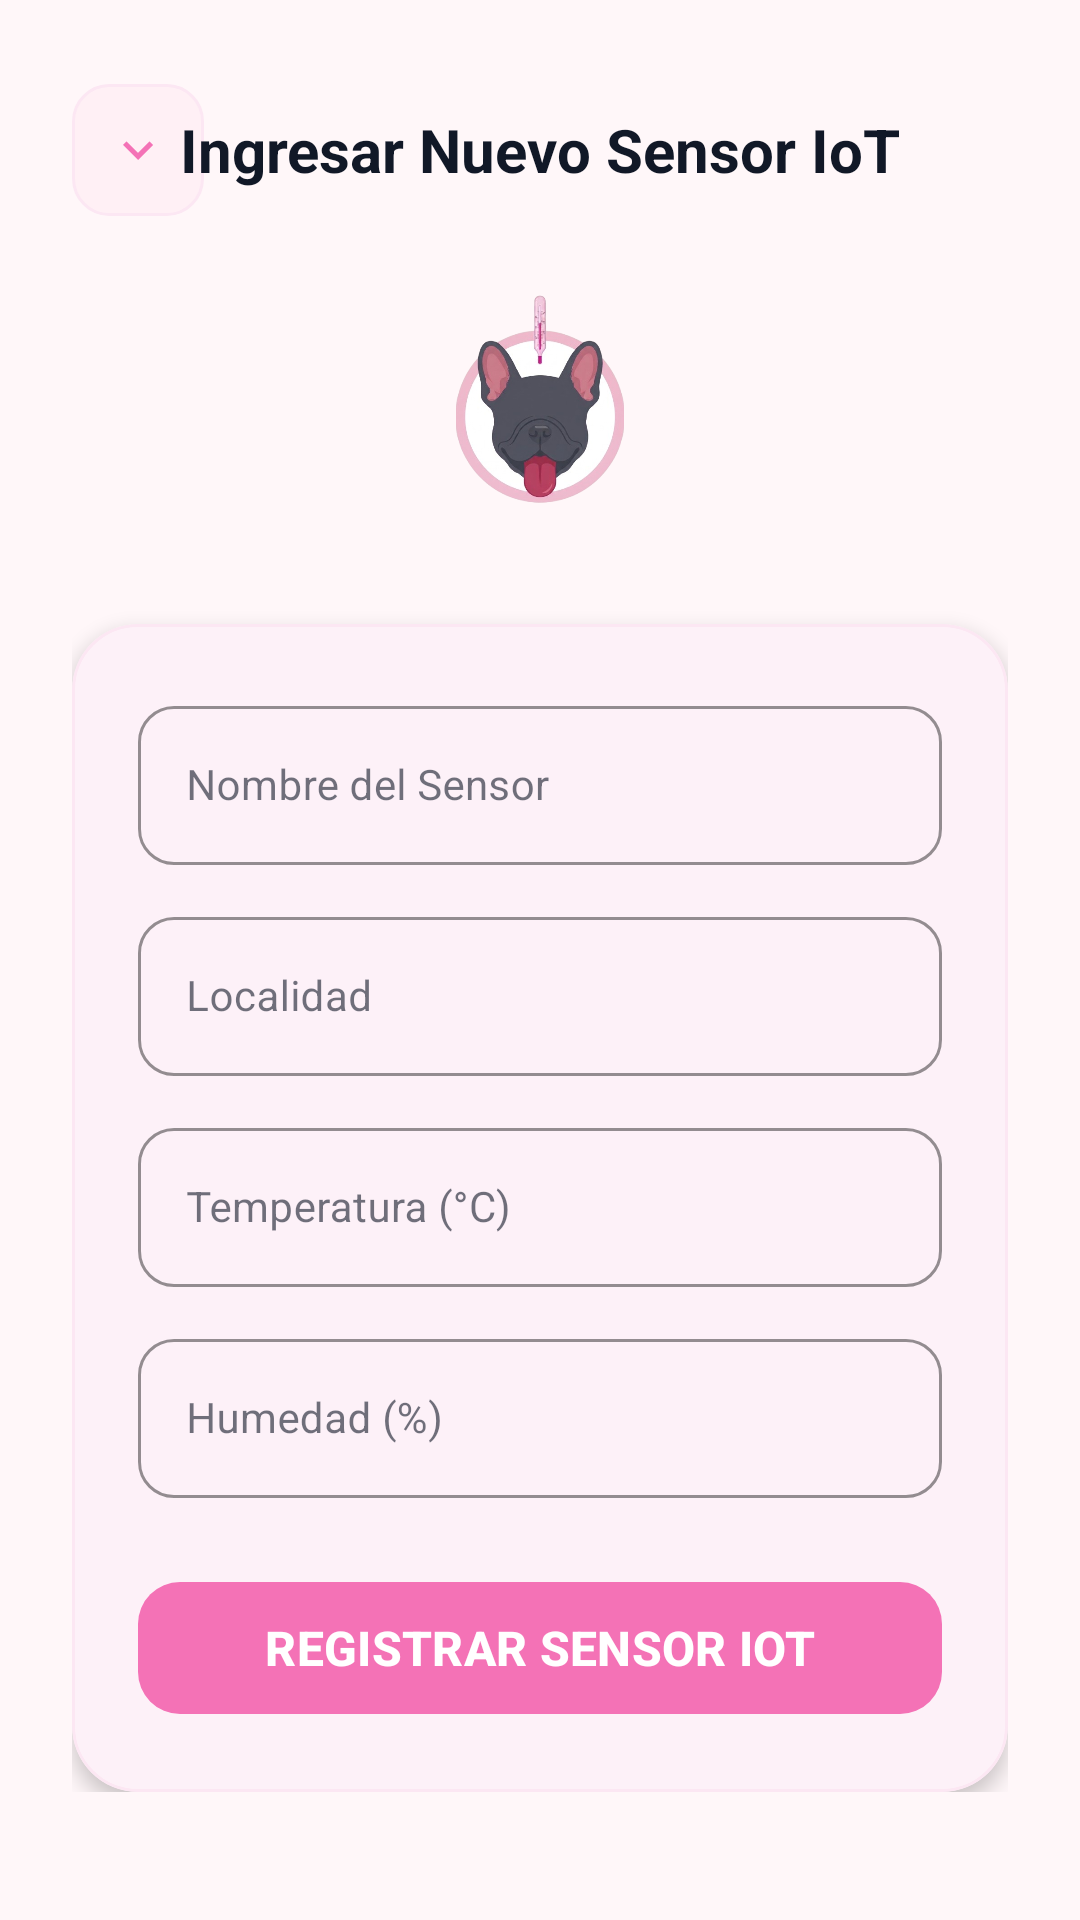

Icon click points for this 1080 × 1920 phone screenshot, format point (x, y):
expand more: point (158, 151)
